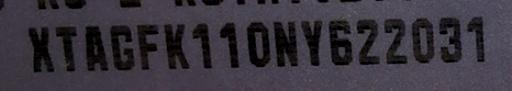letter: (24, 23, 56, 74), (270, 16, 300, 69), (80, 20, 110, 71), (326, 16, 354, 69), (354, 16, 382, 69), (106, 22, 136, 71), (435, 14, 463, 65), (462, 14, 490, 65), (244, 18, 272, 69), (53, 23, 81, 74), (298, 16, 324, 69), (381, 16, 409, 65), (408, 16, 436, 65), (162, 21, 190, 70), (134, 21, 160, 70), (217, 18, 241, 69), (190, 21, 214, 70)
